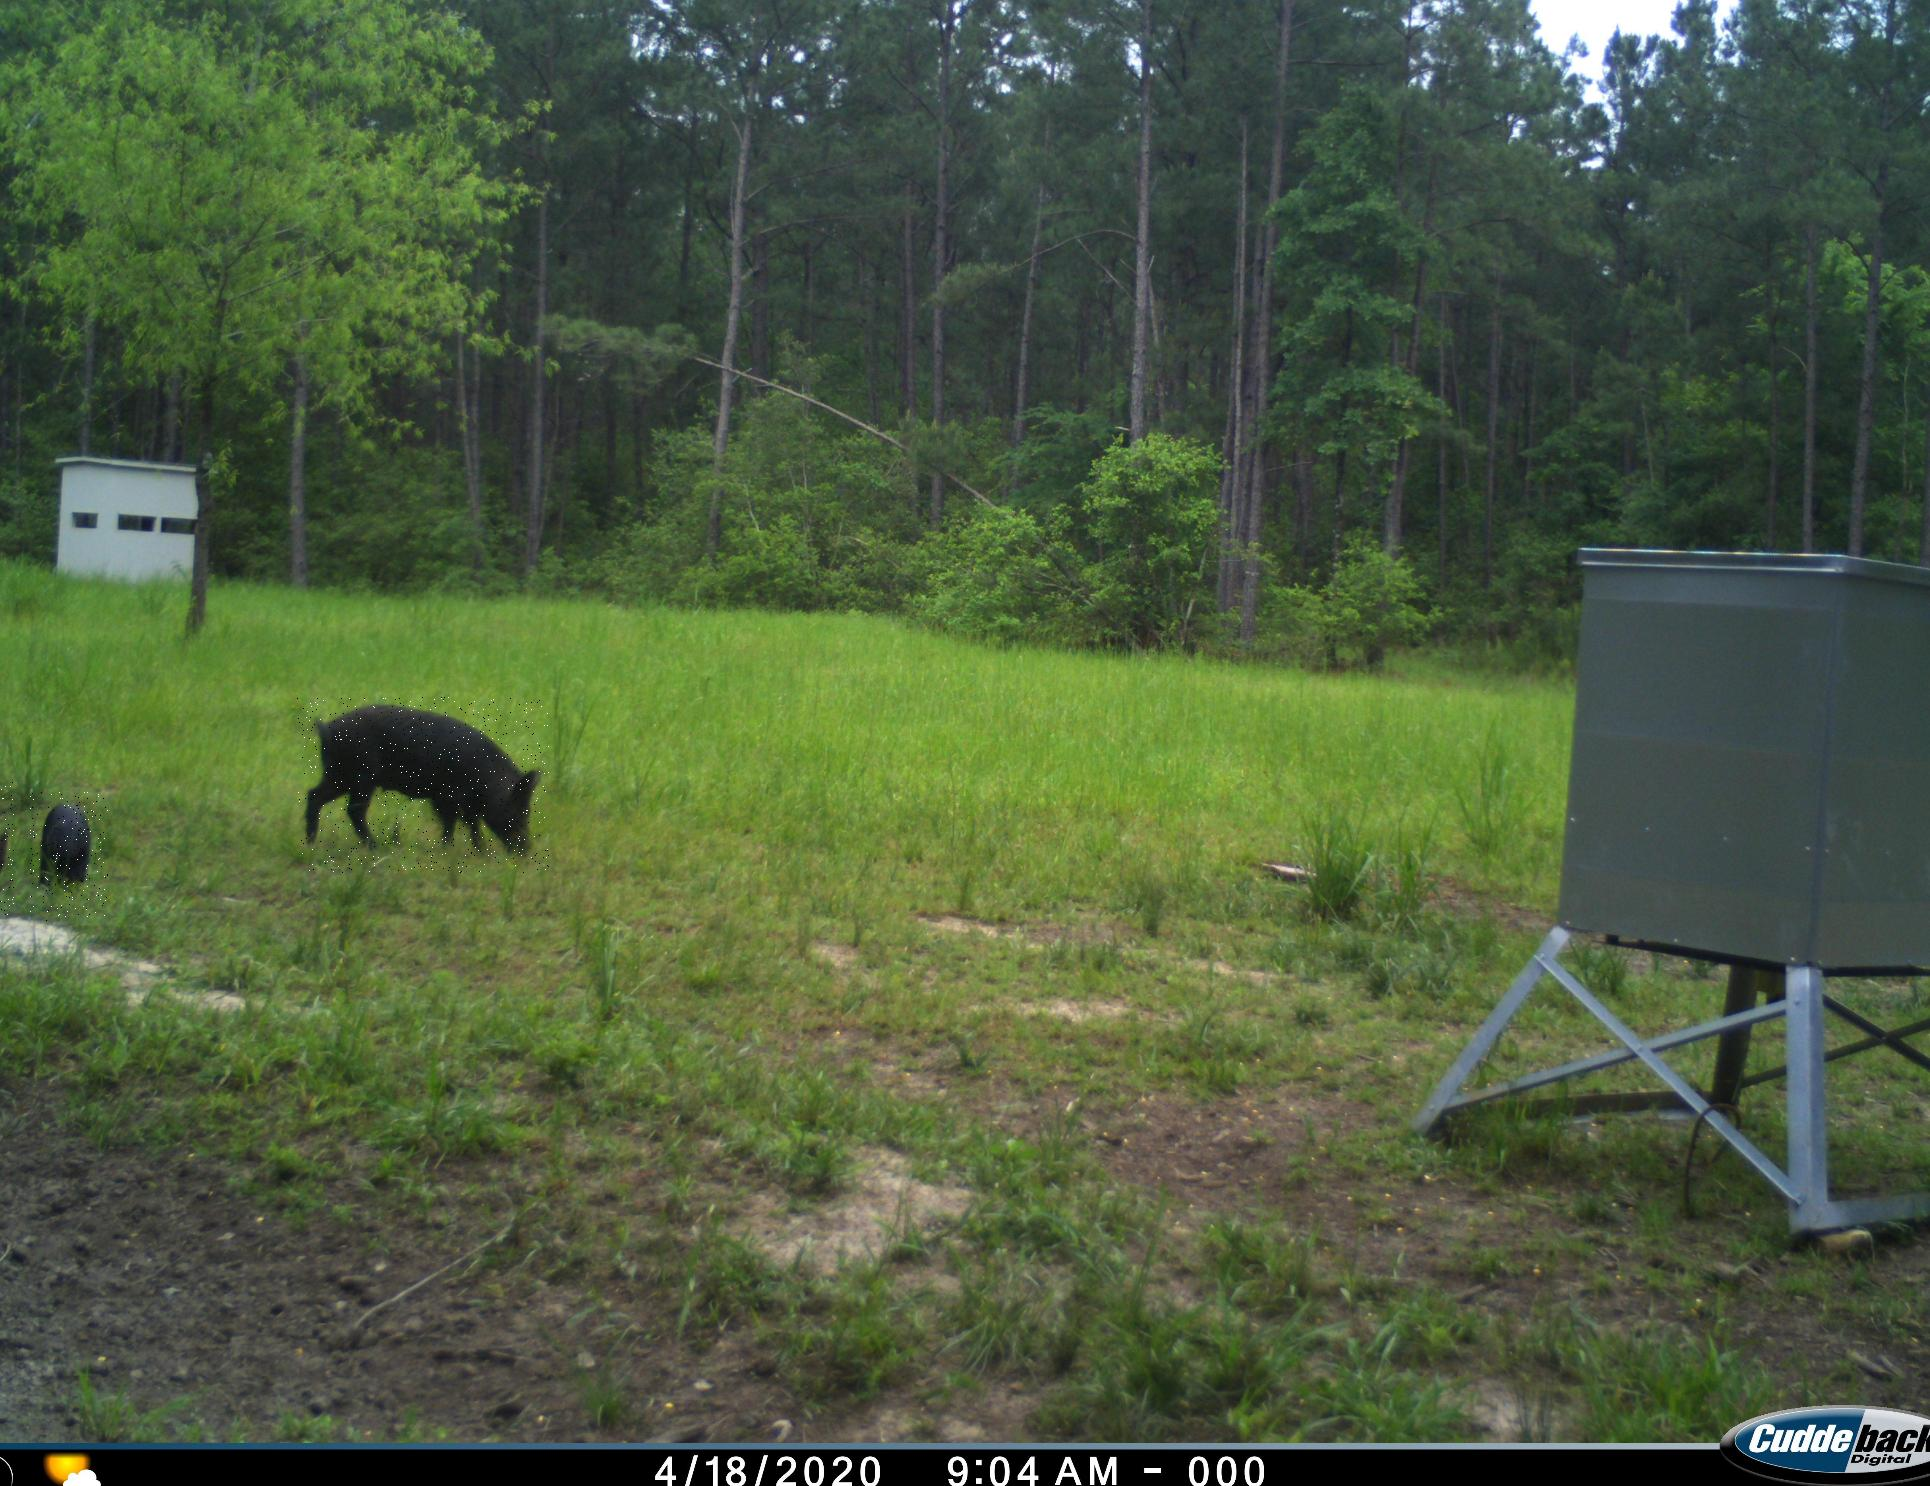Hog: (296, 698, 549, 873), (30, 793, 108, 923), (0, 782, 16, 915)
